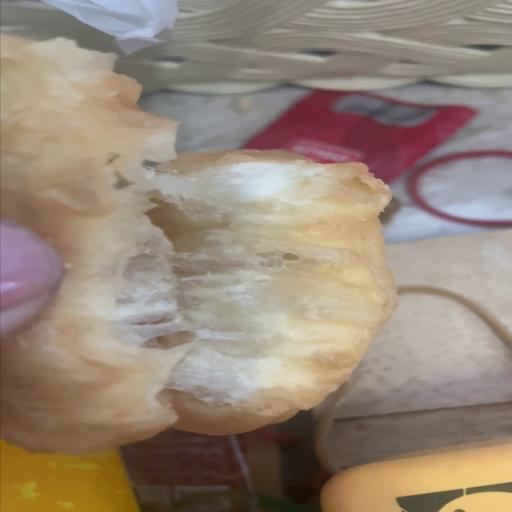street_golden_defect: (0, 141, 394, 442)
